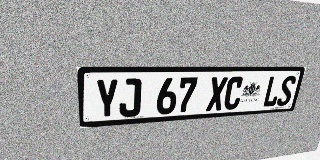6: (156, 78, 179, 115)
7: (176, 77, 198, 113)
C: (223, 77, 245, 110)
J: (119, 78, 142, 117)
L: (262, 76, 283, 107)
S: (276, 76, 297, 106)
X: (206, 77, 228, 111)
Y: (95, 79, 119, 119)
